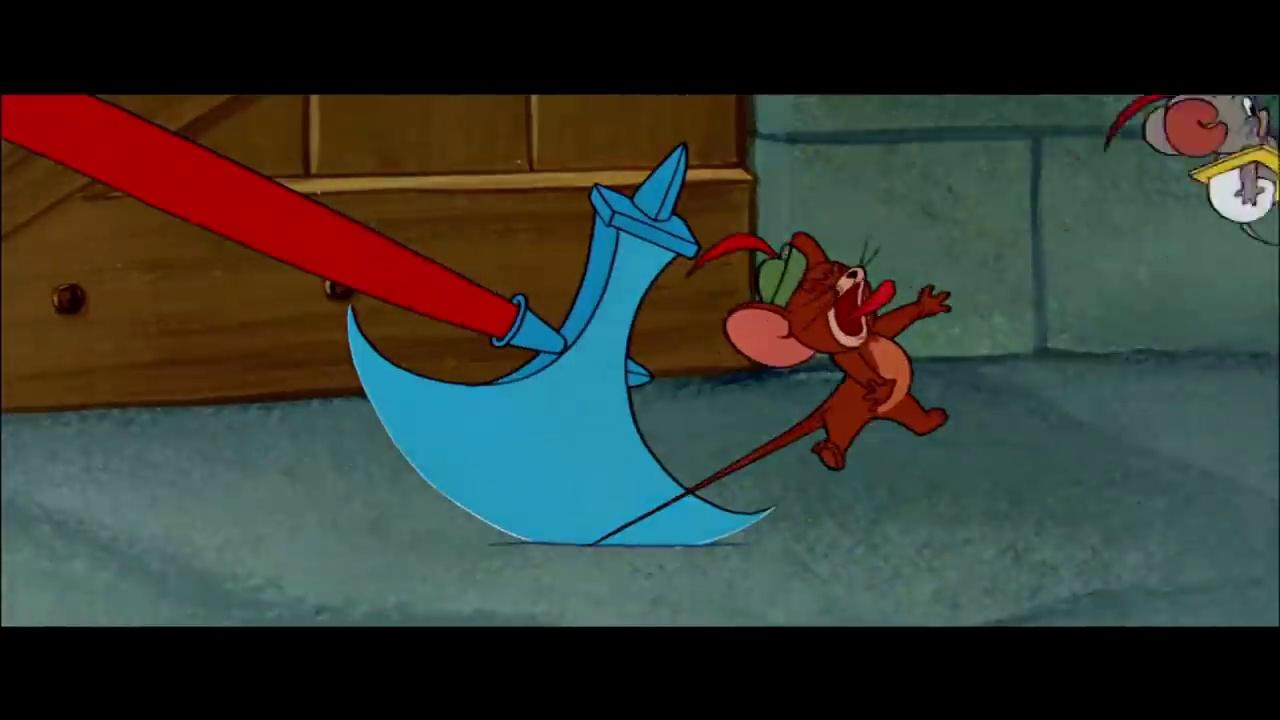Jerry: (591, 229, 952, 549)
